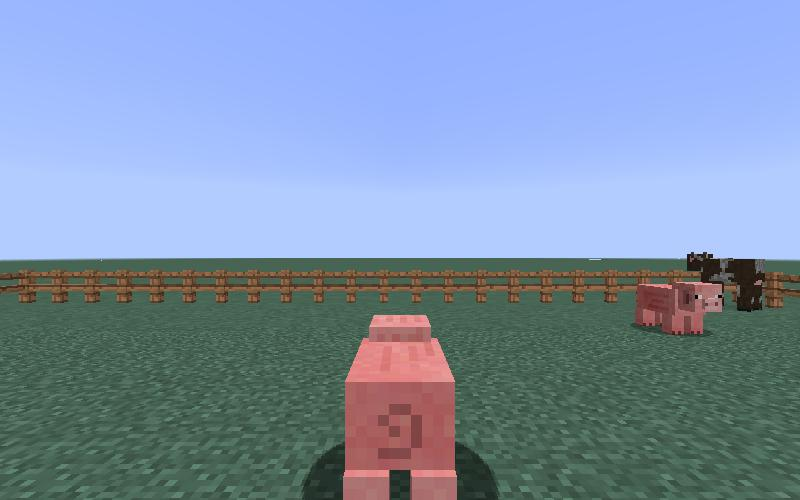cow: (688, 254, 764, 287)
pig: (343, 315, 458, 500), (636, 282, 723, 337)
